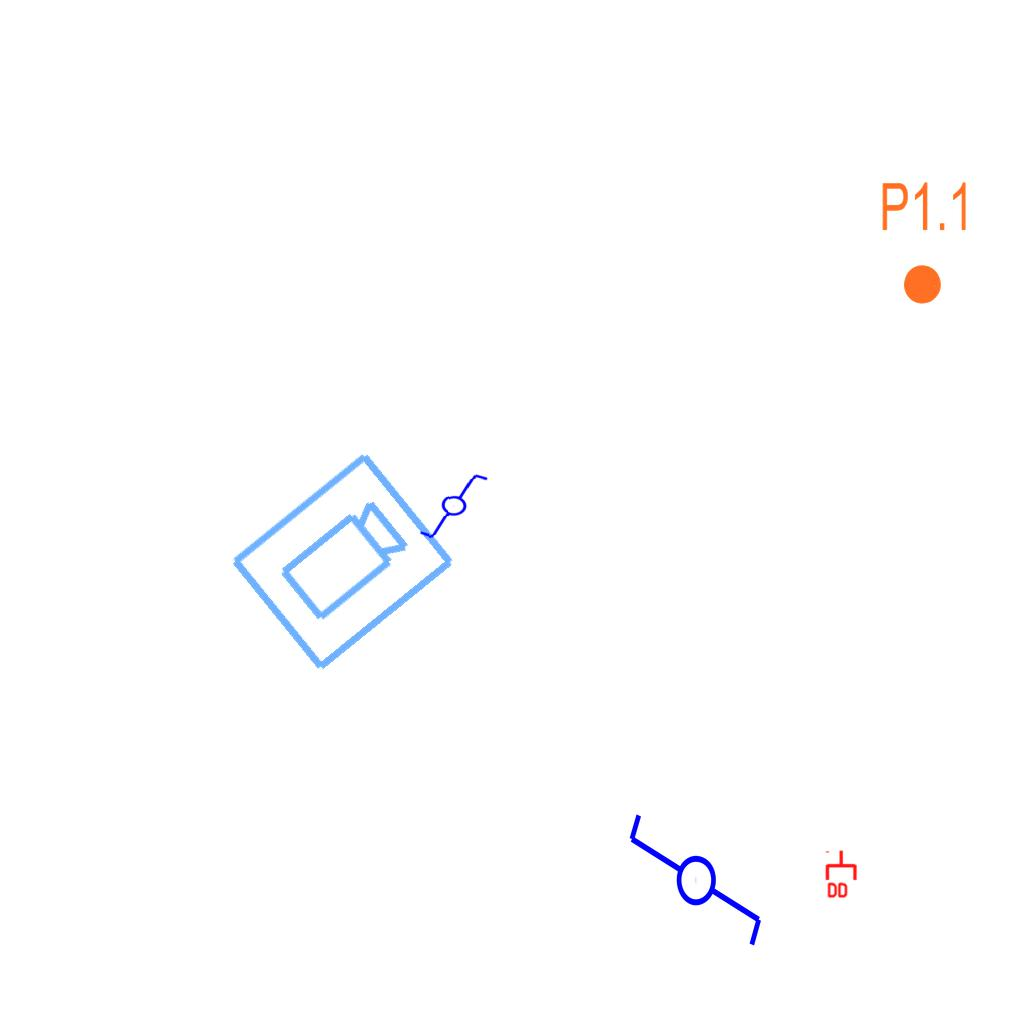Datenanschluss_zweifach: (825, 849, 859, 900)
Downlight_LED_Einbauleuchten_Flur: (879, 179, 972, 307)
KFO_Kamera_mit_Festobjektiv: (223, 445, 463, 681)
Wechselschalter: (622, 810, 766, 967), (417, 469, 499, 545)
